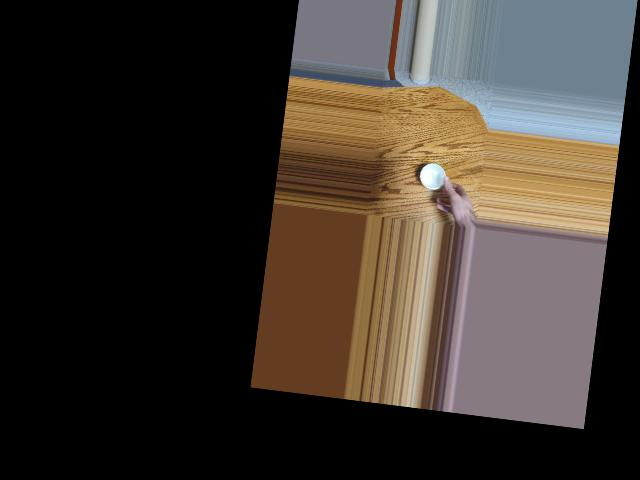cotage: (416, 158, 452, 194)
